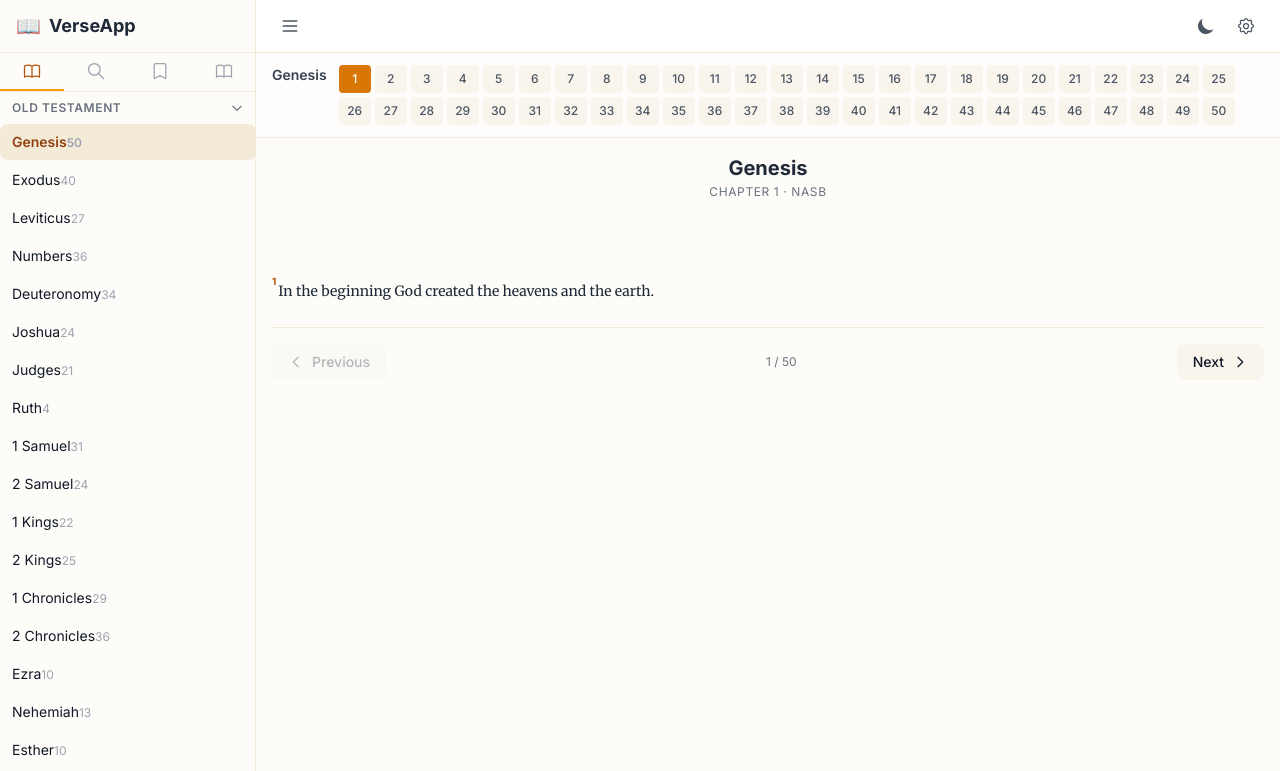
Test: AppLayout › opens settings modal on click
The image size is (1280, 771).
Click the button named "Settings": x=1246, y=26 [1228,8,1264,44]
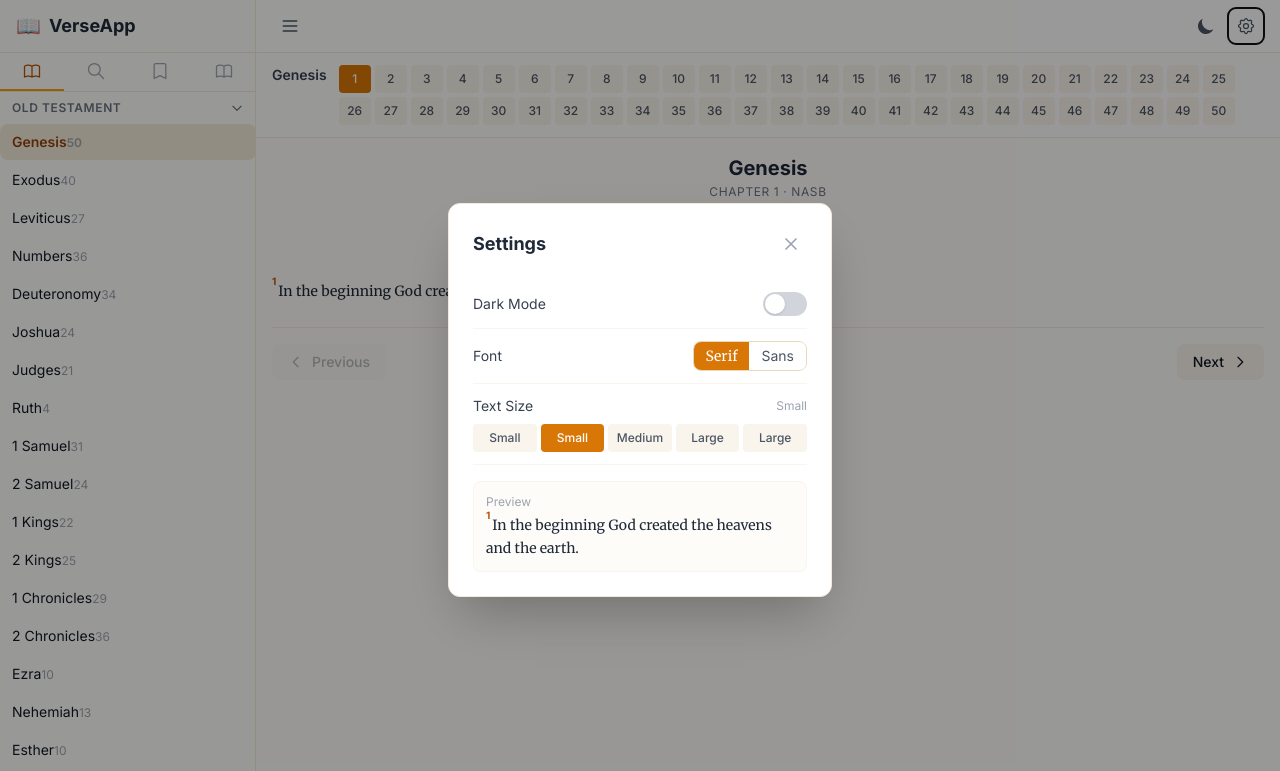
Now the heading "Settings" is shown, box [473,230,546,258]
Now the text "Dark Mode" is shown, box [473,294,546,314]
